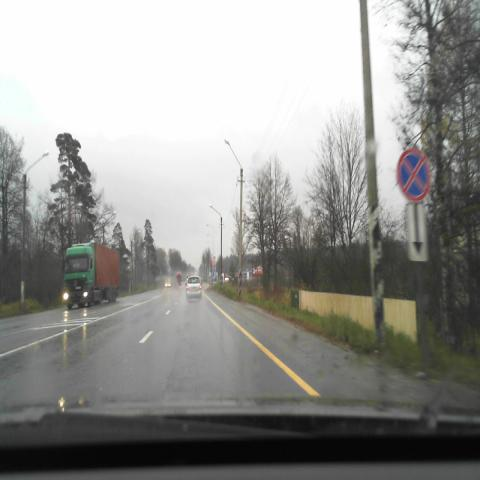8_2_3: (407, 204, 427, 262)
